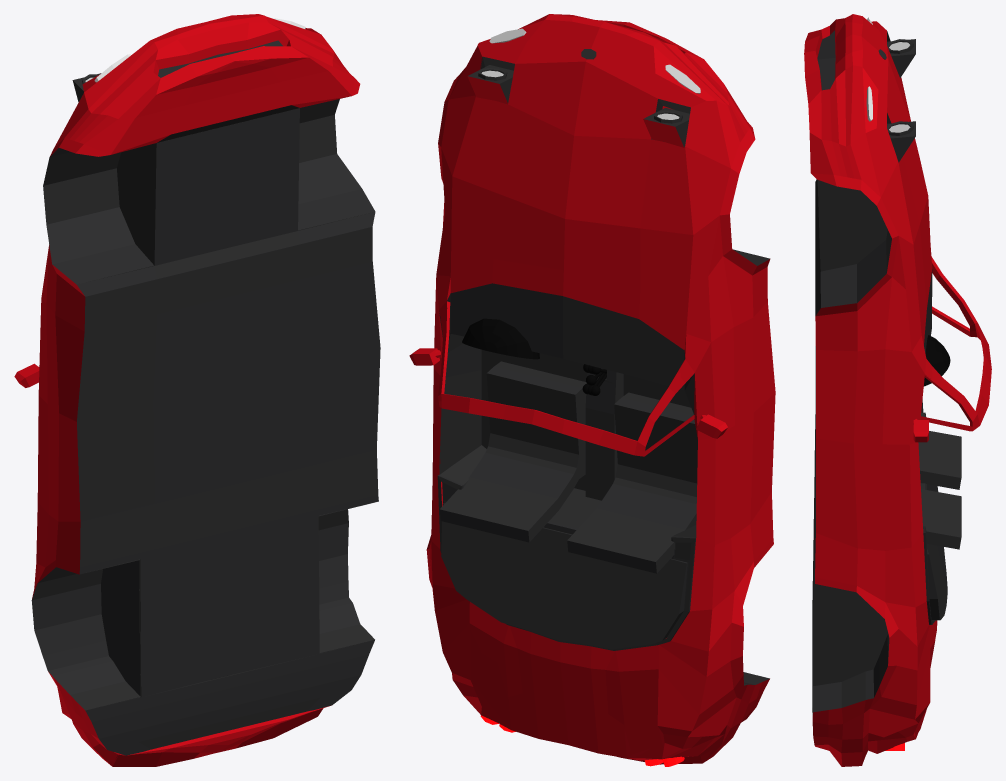
The model's file is car.fbx.
3 views of the same model, side by side, from view 1: azimuth 30°, elevation 25°; view 2: azimuth 150°, elevation 25°; view 3: azimuth 270°, elevation 25° (orthographic). The views are drawn at different scales.
Visible parts, largest first — view 1: Bodywork; view 2: Bodywork, Wheel-Base, Front-Right Light, Front-Left Light; view 3: Bodywork, Front-Left Light, Front-Right Light, Wheel-Base.
Part boxes in pixels (x1=…): Bodywork: x1=14, y1=14, x2=380, y2=766; Bodywork: x1=409, y1=14, x2=775, y2=764; Wheel-Base: x1=462, y1=318, x2=539, y2=359; Front-Right Light: x1=643, y1=107, x2=689, y2=147; Front-Left Light: x1=467, y1=65, x2=513, y2=103; Bodywork: x1=804, y1=14, x2=991, y2=766; Front-Left Light: x1=887, y1=121, x2=915, y2=162; Front-Right Light: x1=887, y1=39, x2=915, y2=77; Wheel-Base: x1=923, y1=335, x2=950, y2=386.
Size of the model in its own units: 299 by 655 by 160.
